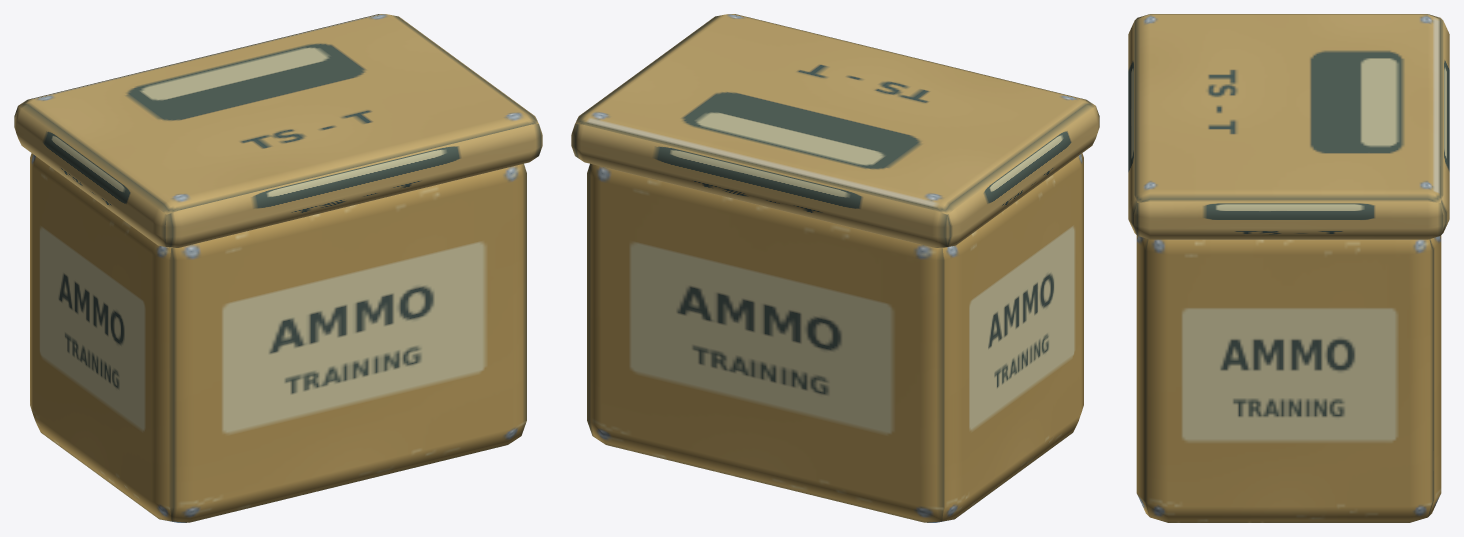
Rendered from SM_AmmoBox.glb.
3 views of the same model, side by side, from view 1: azimuth 30°, elevation 25°; view 2: azimuth 150°, elevation 25°; view 3: azimuth 270°, elevation 25° (orthographic).
Visible parts, largest first — view 1: SM_AmmoBox; view 2: SM_AmmoBox; view 3: SM_AmmoBox.
Part boxes in pixels (x1=…): SM_AmmoBox: x1=14, y1=14, x2=542, y2=522; SM_AmmoBox: x1=571, y1=14, x2=1099, y2=522; SM_AmmoBox: x1=1128, y1=14, x2=1449, y2=522.
Bounding box in the file's own units: 0.375 × 0.3085 × 0.264.
1 material, 1 textured.
